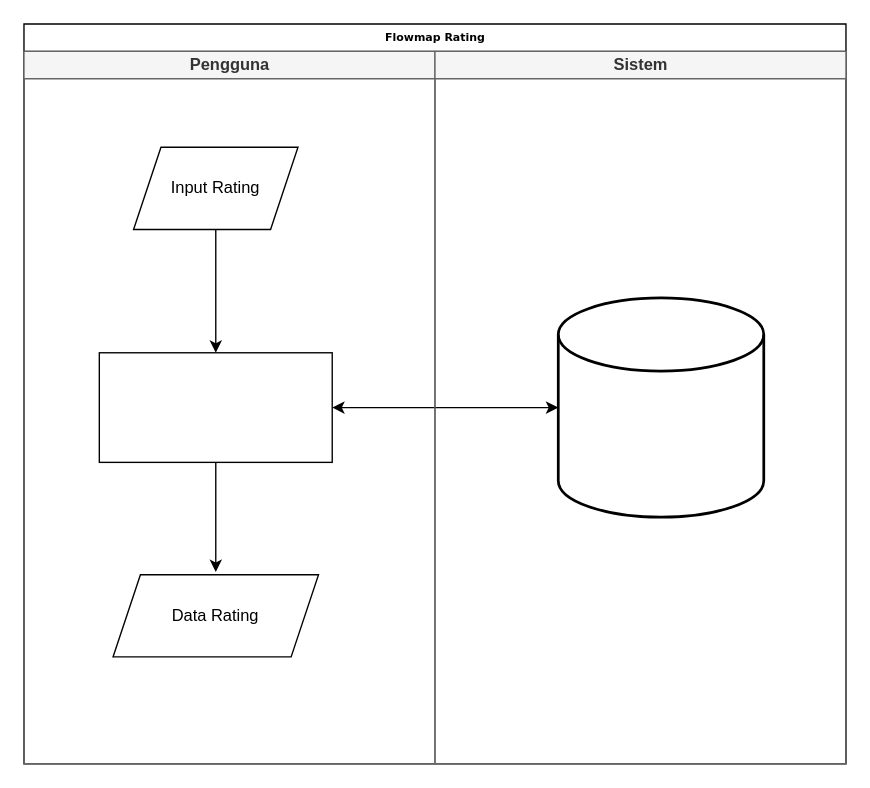
This 870x788 diagram has some shape labels left out. The centre of each missing label's shape, as x and y in pixels:
"ecosphera" goes at pixel 660 407.
"Simpan dan kalkulasi Data Rating" goes at pixel 215 406.
